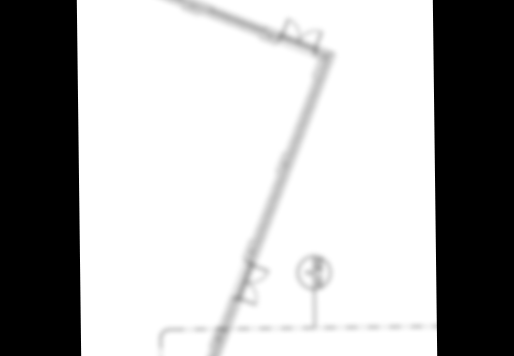double door: (274, 16, 327, 58), (231, 262, 272, 307)
